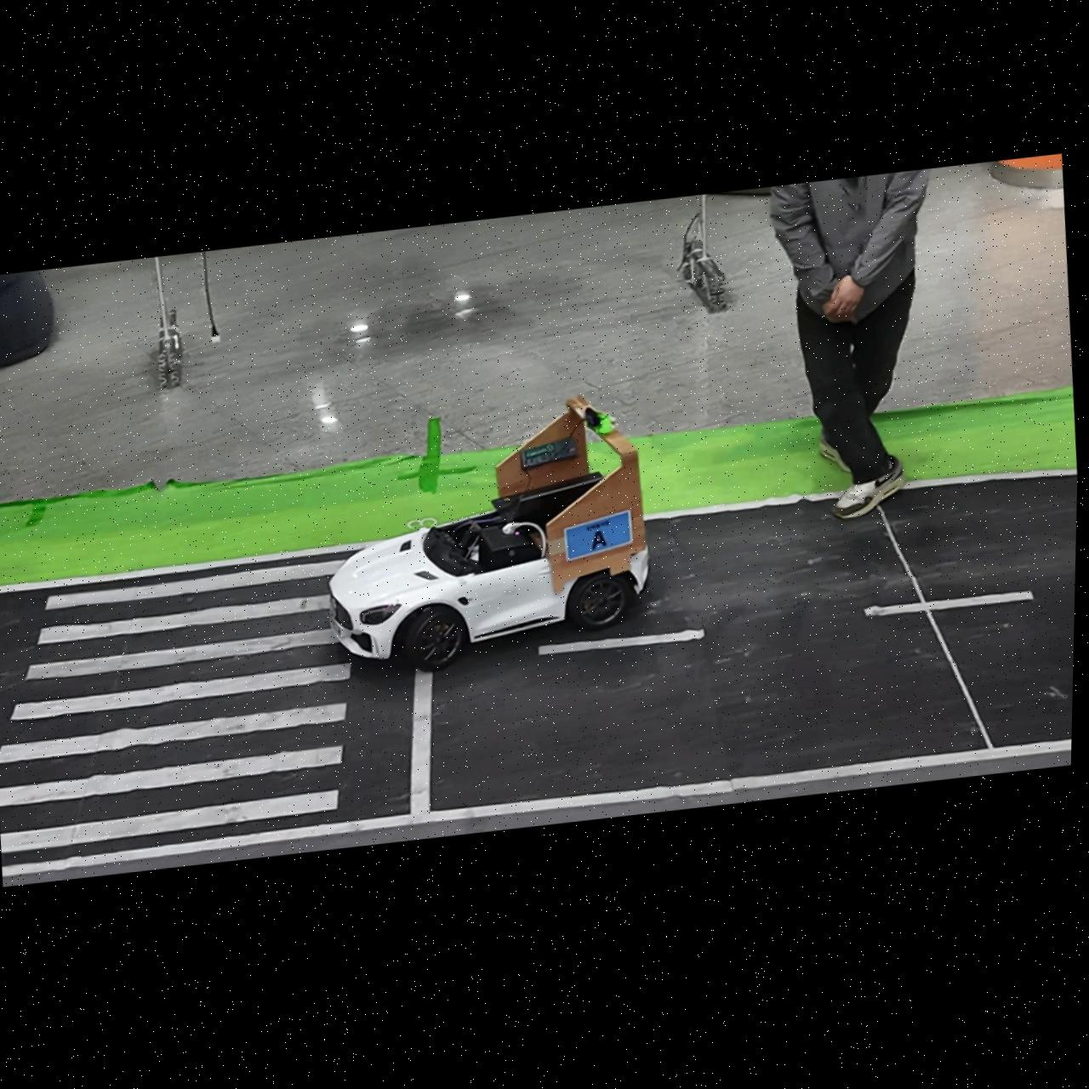broken_line: (538, 629, 704, 655), (864, 591, 1034, 616)
crosswalk: (0, 560, 352, 852)
